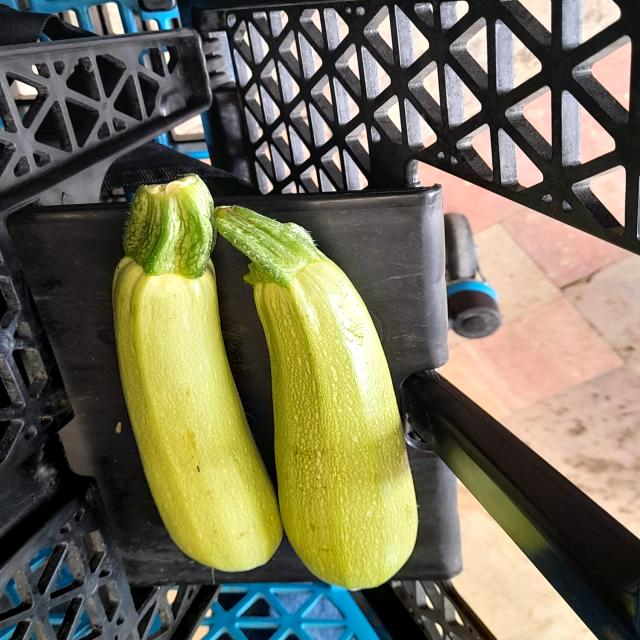zucchini: (212, 196, 424, 595), (102, 164, 286, 579)
